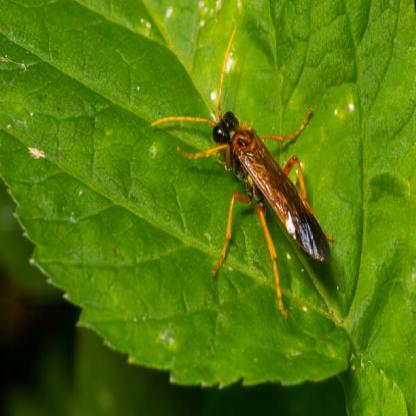sawfly: (154, 30, 347, 320)
